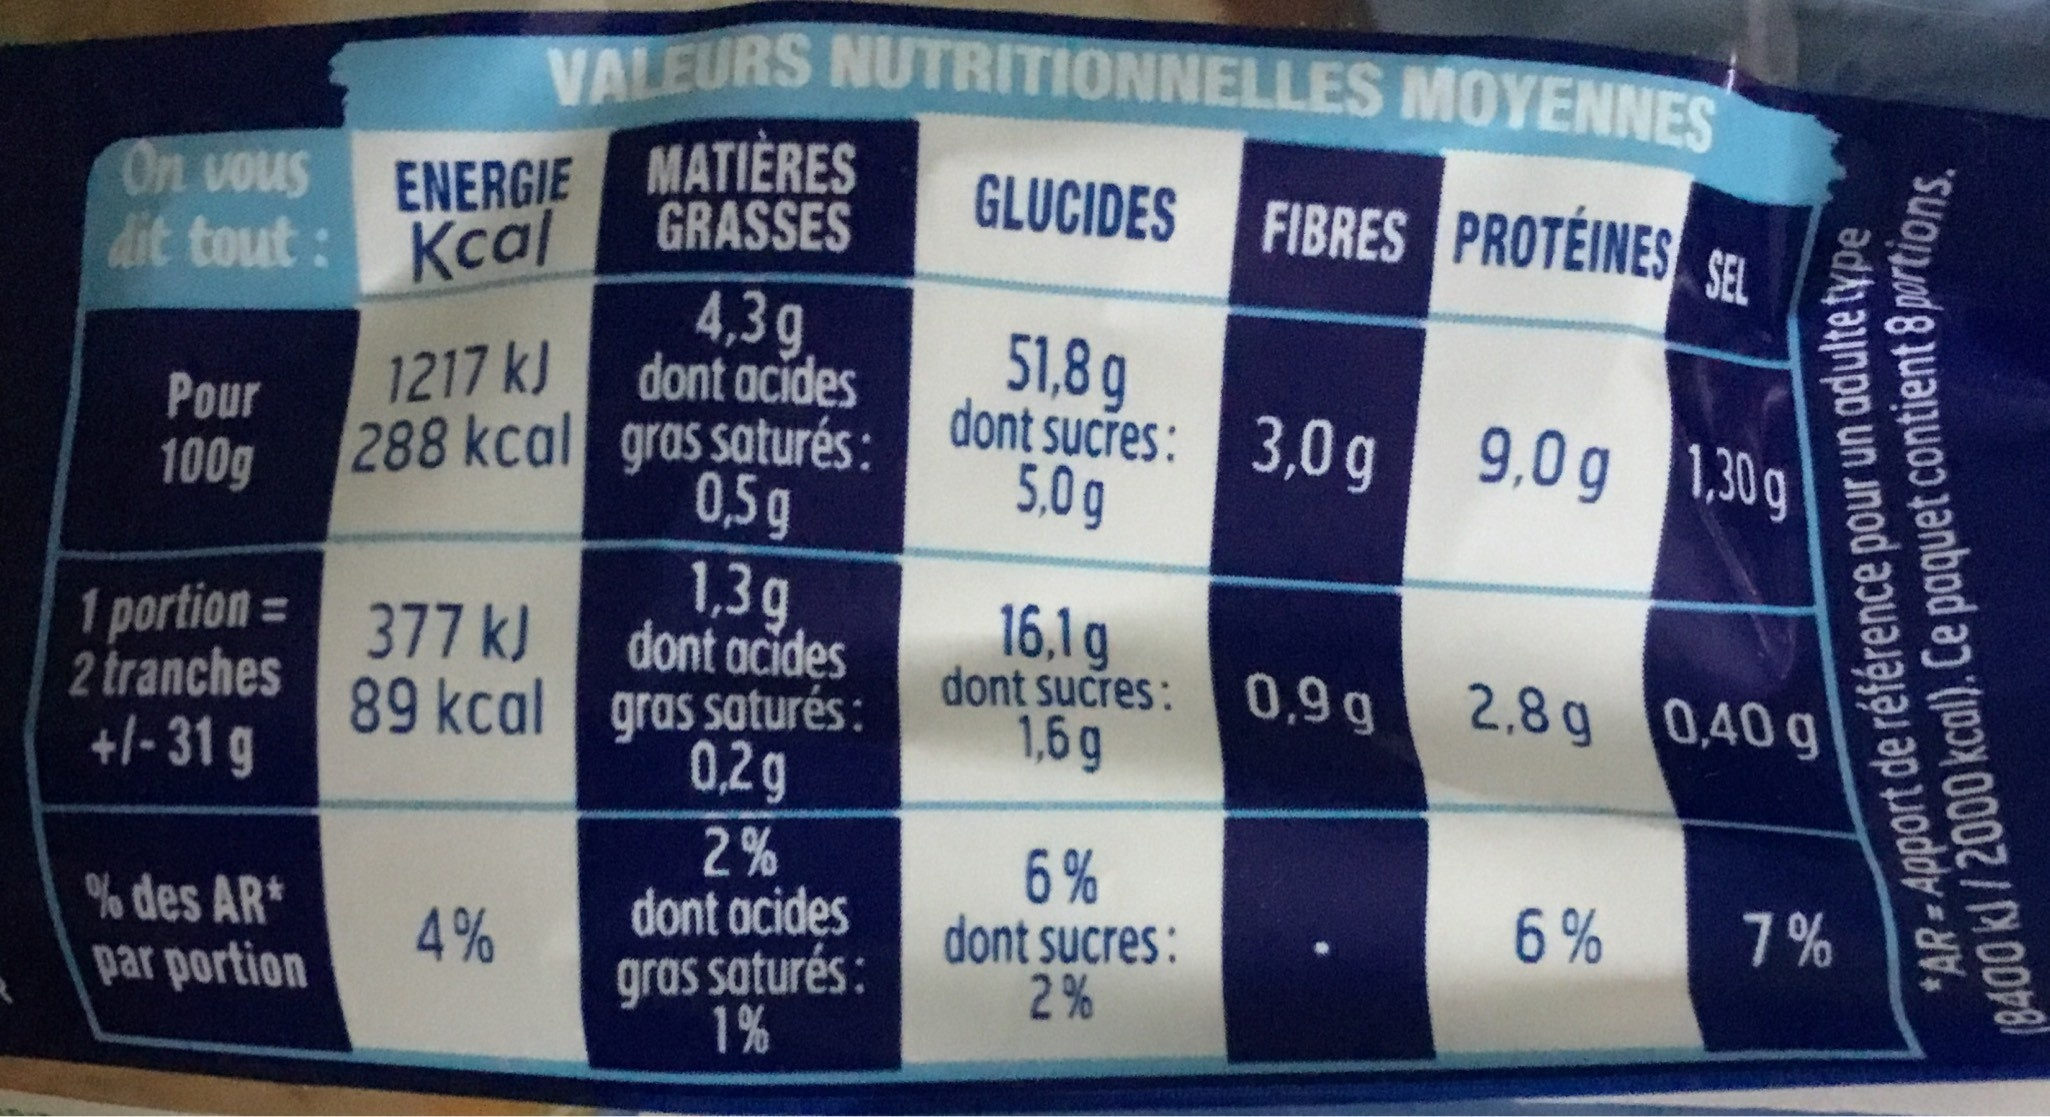column: (76, 117, 334, 1036), (617, 136, 870, 1054), (938, 133, 1180, 1052), (353, 125, 577, 1048), (1448, 154, 1666, 1048), (1237, 150, 1407, 1054), (1688, 157, 1836, 1045)
table: (30, 34, 1925, 1067)
